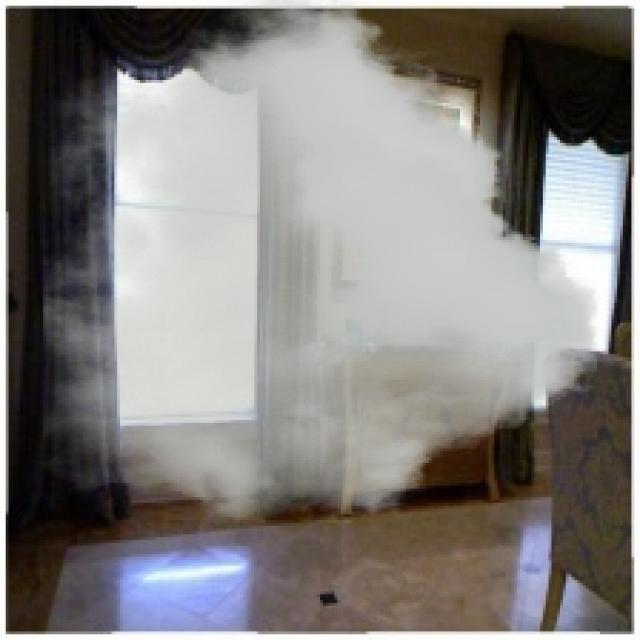Smoke: (42, 0, 598, 523)
